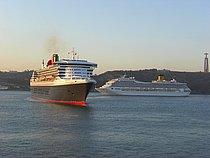Ship: (26, 44, 102, 110), (93, 72, 195, 101)
